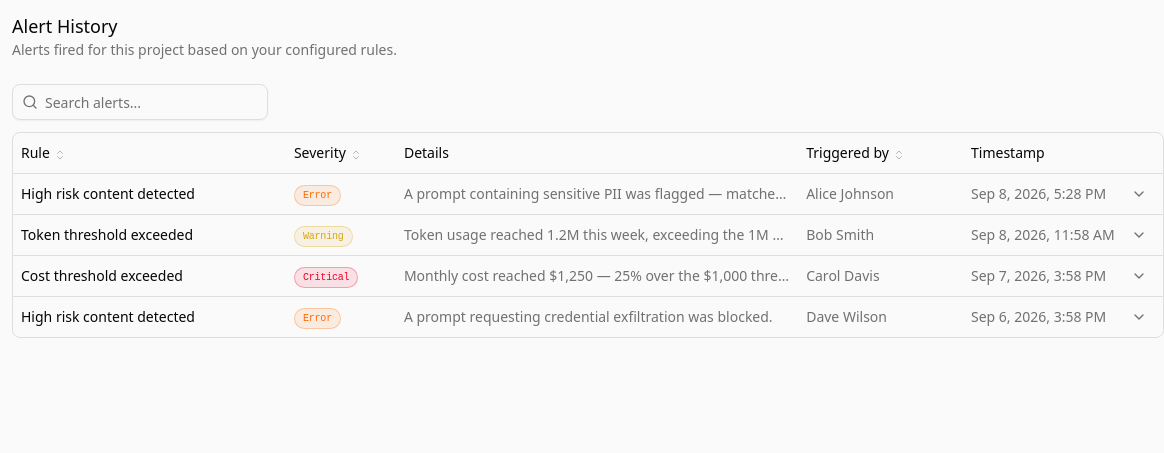
Scenario: ProjectAlertsTab › Row expand › shows full message on row click
This screenshot has width=1164, height=453.
Click the 2nd row.
click(588, 194)  # box [13,173,1163,214]
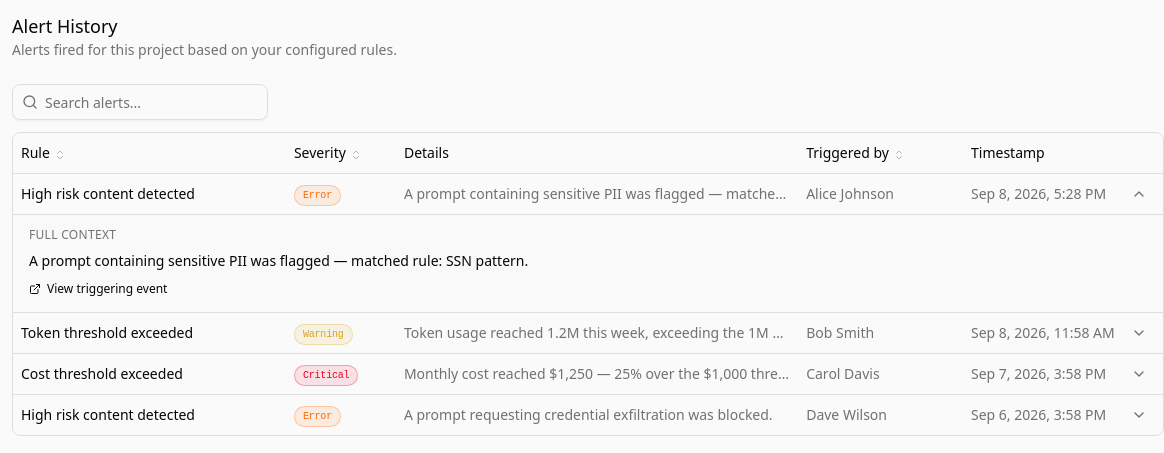
Expected: the text "Full context" is shown, [29,226,116,242]
